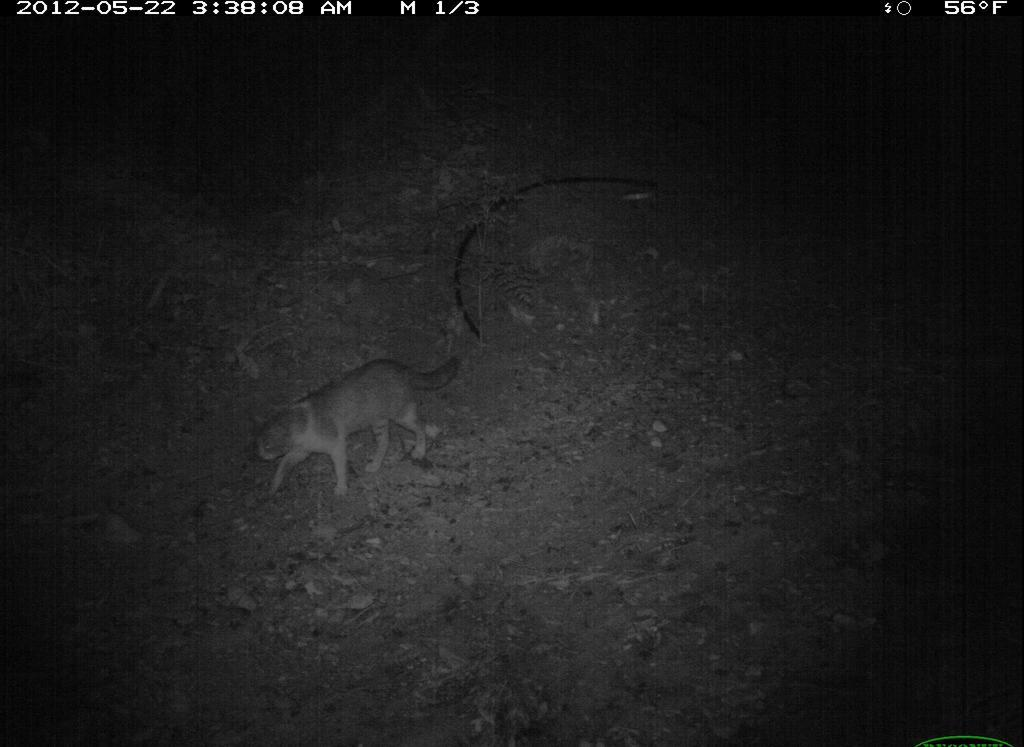cat: (223, 337, 482, 515)
